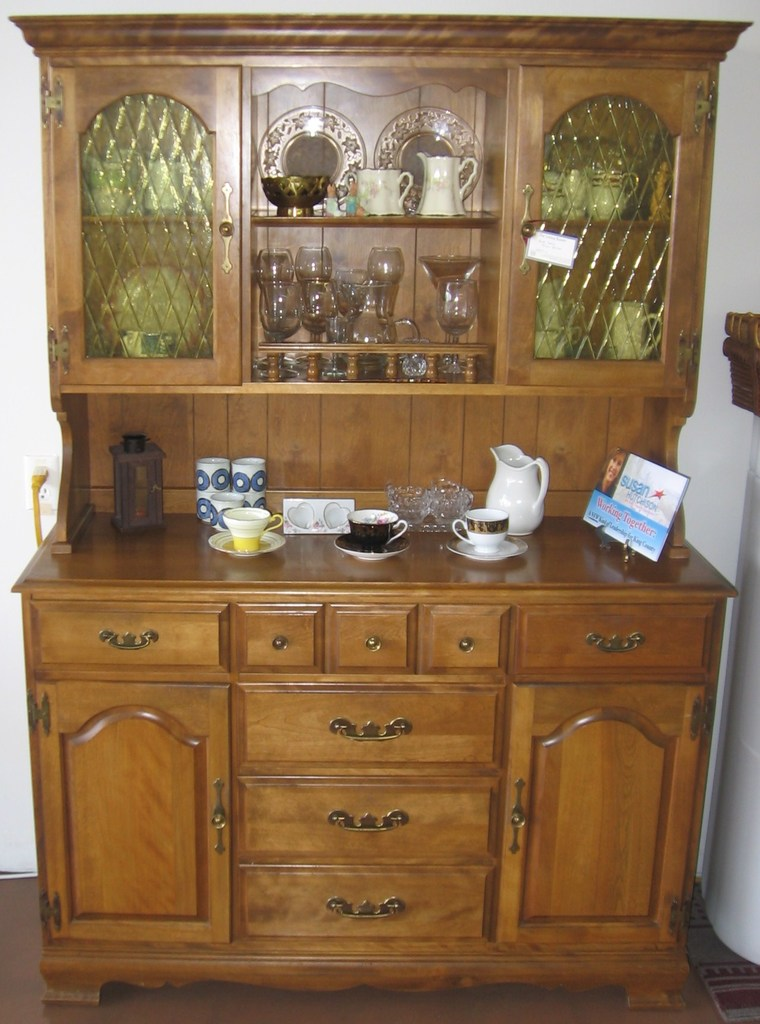cabinet door: (53, 77, 243, 377), (40, 681, 229, 933), (504, 688, 680, 954), (236, 681, 497, 774), (232, 860, 497, 944), (234, 775, 497, 859), (520, 596, 717, 678), (34, 600, 230, 671), (420, 596, 514, 674), (235, 592, 318, 671), (330, 607, 413, 676)
handle: (331, 802, 408, 846), (331, 713, 415, 751), (327, 886, 404, 922), (588, 629, 645, 660), (103, 623, 164, 651), (220, 188, 235, 267), (510, 775, 523, 865), (209, 778, 224, 852), (520, 191, 531, 259), (270, 633, 287, 660), (367, 633, 381, 656), (461, 639, 476, 656)
